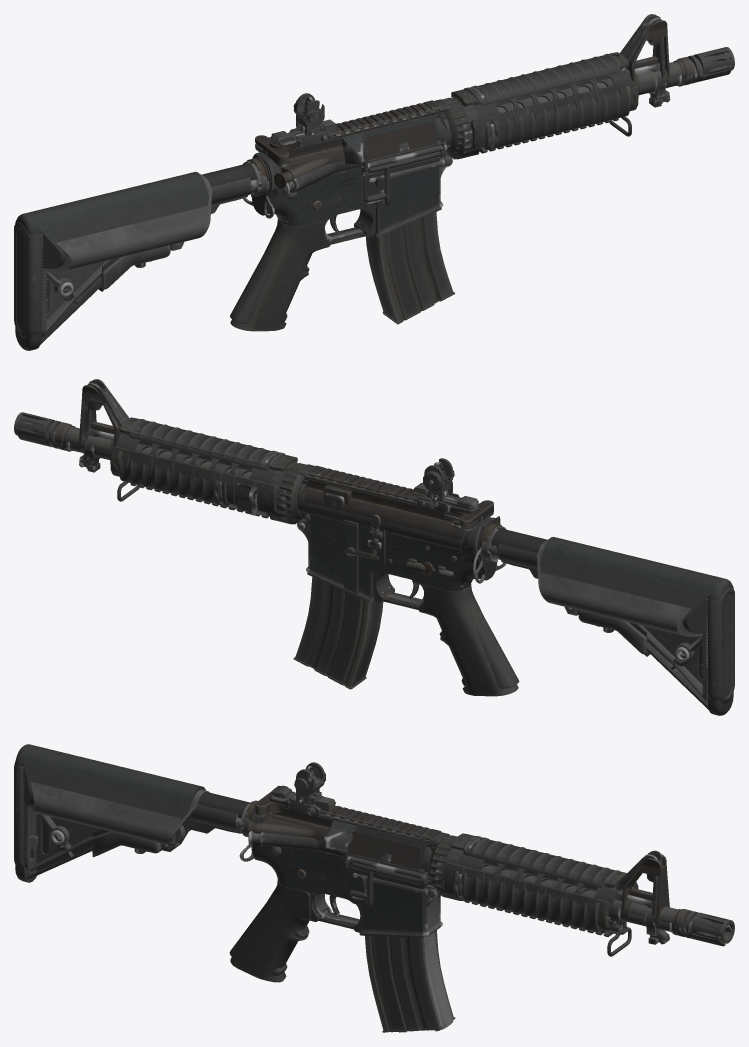
3 views of the same model, one above another, from view 1: azimuth 30°, elevation 25°; view 2: azimuth 150°, elevation 25°; view 3: azimuth 330°, elevation 25° (orthographic).
Visible parts, largest first — view 1: weapons/models/m4a4/weapon_rif_m4a4.vmdl_c.body_legacy, weapons/models/m4a4/weapon_rif_m4a4.vmdl_c.body_hd; view 2: weapons/models/m4a4/weapon_rif_m4a4.vmdl_c.body_legacy, weapons/models/m4a4/weapon_rif_m4a4.vmdl_c.body_hd; view 3: weapons/models/m4a4/weapon_rif_m4a4.vmdl_c.body_legacy, weapons/models/m4a4/weapon_rif_m4a4.vmdl_c.body_hd.
Boxes of the visible parts, <box> form: weapons/models/m4a4/weapon_rif_m4a4.vmdl_c.body_legacy: <box>15,16,734,350</box>; weapons/models/m4a4/weapon_rif_m4a4.vmdl_c.body_hd: <box>14,14,731,338</box>; weapons/models/m4a4/weapon_rif_m4a4.vmdl_c.body_legacy: <box>14,381,733,715</box>; weapons/models/m4a4/weapon_rif_m4a4.vmdl_c.body_hd: <box>17,379,734,703</box>; weapons/models/m4a4/weapon_rif_m4a4.vmdl_c.body_legacy: <box>15,744,734,1032</box>; weapons/models/m4a4/weapon_rif_m4a4.vmdl_c.body_hd: <box>14,762,731,1032</box>.
Size of the model in its own units: 35.38 by 11.51 by 3.59.
2 materials, 2 textured.
